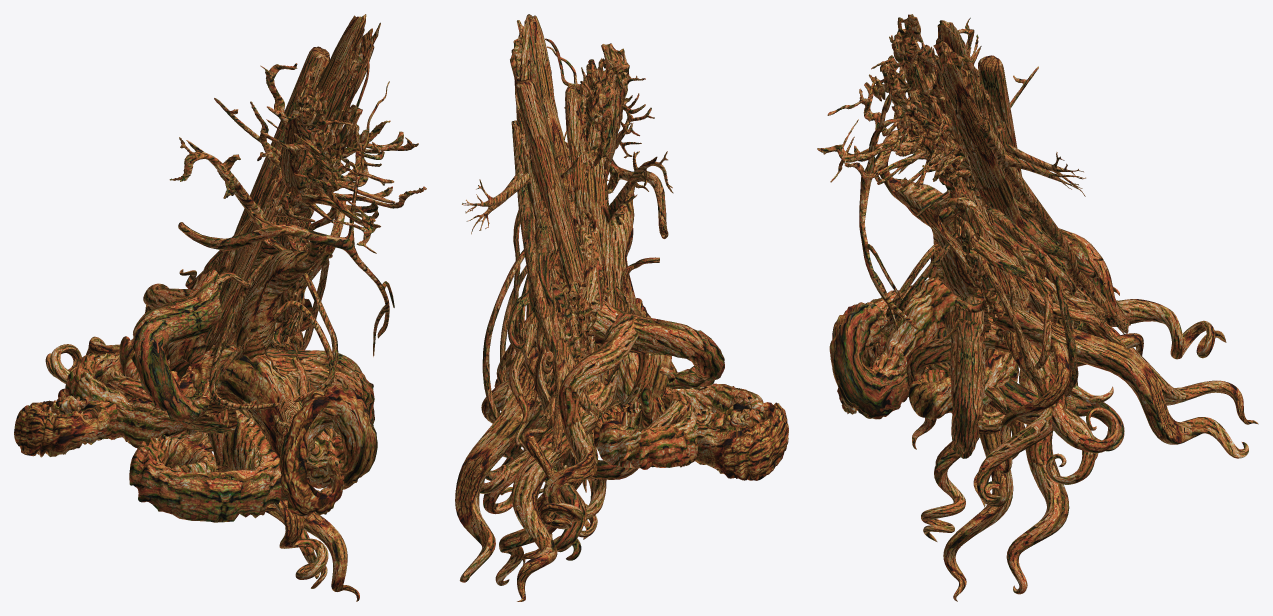
The model's file is dmredwoodtree2.glb.
3 renders of one model, left to right at view 1: azimuth 30°, elevation 25°; view 2: azimuth 150°, elevation 25°; view 3: azimuth 270°, elevation 25°, orthographic. The views are drawn at different scales.
Visible parts, largest first — view 1: brambles_flat_brambles.002, jump_rope_246.072, coral.003, human_liver_1128_gallbladder.006, bramble_cluster_large_curl, plant.015, plant.016, jump_rope_246.028, bramble_cluster_small_curl, jump_rope_246.024, jump_rope_246.029, jump_rope_246.023; view 2: jump_rope_246.072, plant.015, brambles_flat_brambles.002, human_kidneys_and_bladder_1127_blood_vessels.002, bramble_cluster_large_curl, plant.016, plant.003, coral.003, human_liver_1128_gallbladder.006, jump_rope_246.023, jump_rope_246.024, jump_rope_246.029; view 3: jump_rope_246.072, plant.015, plant.016, brambles_flat_brambles.002, human_liver_1128_gallbladder.006, coral.003, human_kidneys_and_bladder_1127_blood_vessels.002, bramble_cluster_small_curl, plant.003, jump_rope_246.024, jump_rope_246.023, jump_rope_246.029 (+1 smaller).
Boxes of the visible parts, bbox=[...] form: brambles_flat_brambles.002: bbox=[14, 336, 377, 522]; jump_rope_246.072: bbox=[202, 14, 380, 352]; coral.003: bbox=[169, 63, 426, 271]; human_liver_1128_gallbladder.006: bbox=[178, 55, 394, 359]; bramble_cluster_large_curl: bbox=[131, 269, 223, 422]; plant.015: bbox=[45, 283, 312, 451]; plant.016: bbox=[207, 327, 359, 601]; jump_rope_246.028: bbox=[209, 255, 338, 427]; bramble_cluster_small_curl: bbox=[266, 347, 374, 437]; jump_rope_246.024: bbox=[184, 201, 345, 435]; jump_rope_246.029: bbox=[196, 241, 329, 445]; jump_rope_246.023: bbox=[210, 272, 250, 356]; jump_rope_246.072: bbox=[510, 14, 629, 492]; plant.015: bbox=[455, 313, 690, 601]; brambles_flat_brambles.002: bbox=[594, 298, 788, 480]; human_kidneys_and_bladder_1127_blood_vessels.002: bbox=[462, 120, 613, 454]; bramble_cluster_large_curl: bbox=[586, 299, 724, 389]; plant.016: bbox=[481, 379, 638, 585]; plant.003: bbox=[508, 241, 580, 453]; coral.003: bbox=[555, 60, 673, 225]; human_liver_1128_gallbladder.006: bbox=[545, 38, 668, 310]; jump_rope_246.023: bbox=[482, 249, 659, 445]; jump_rope_246.024: bbox=[513, 209, 581, 485]; jump_rope_246.029: bbox=[500, 265, 615, 451]; jump_rope_246.072: bbox=[872, 14, 1077, 380]; plant.015: bbox=[924, 228, 1258, 459]; plant.016: bbox=[906, 317, 1096, 601]; brambles_flat_brambles.002: bbox=[829, 260, 1085, 419]; human_liver_1128_gallbladder.006: bbox=[859, 49, 977, 330]; coral.003: bbox=[817, 17, 1038, 216]; human_kidneys_and_bladder_1127_blood_vessels.002: bbox=[951, 114, 1130, 334]; bramble_cluster_small_curl: bbox=[944, 296, 985, 458]; plant.003: bbox=[952, 199, 1127, 348]; jump_rope_246.024: bbox=[933, 196, 1077, 396]; jump_rope_246.023: bbox=[947, 190, 1078, 396]; jump_rope_246.029: bbox=[942, 214, 1042, 386].
Bounding box in the file's own units: 0.9303 × 1.55 × 1.07.
2 materials, 2 textured.
